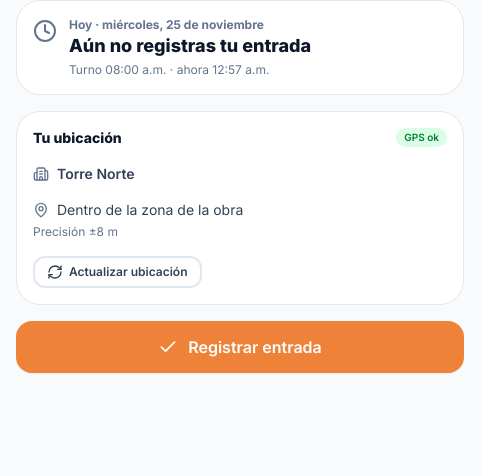
Scenario: MiAsistencia › sin red al checar pero la entrada sí llegó: recarga y lo dice
Click the button "Registrar entrada": (240,346) 16,320 -> 464,372
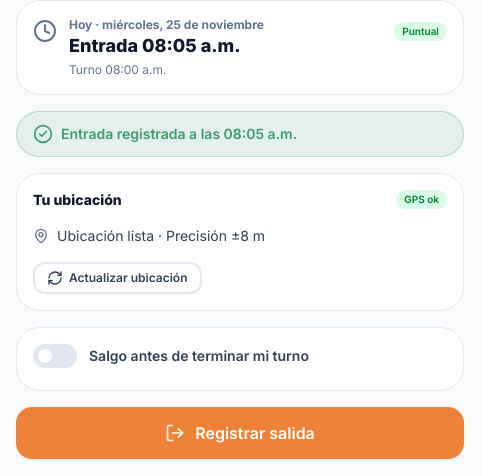
Result: the button "Registrar salida" is shown at 16,406 -> 464,458
Result: the message reads "Entrada registrada a las 08:05 a.m." at 61,124 -> 297,142
